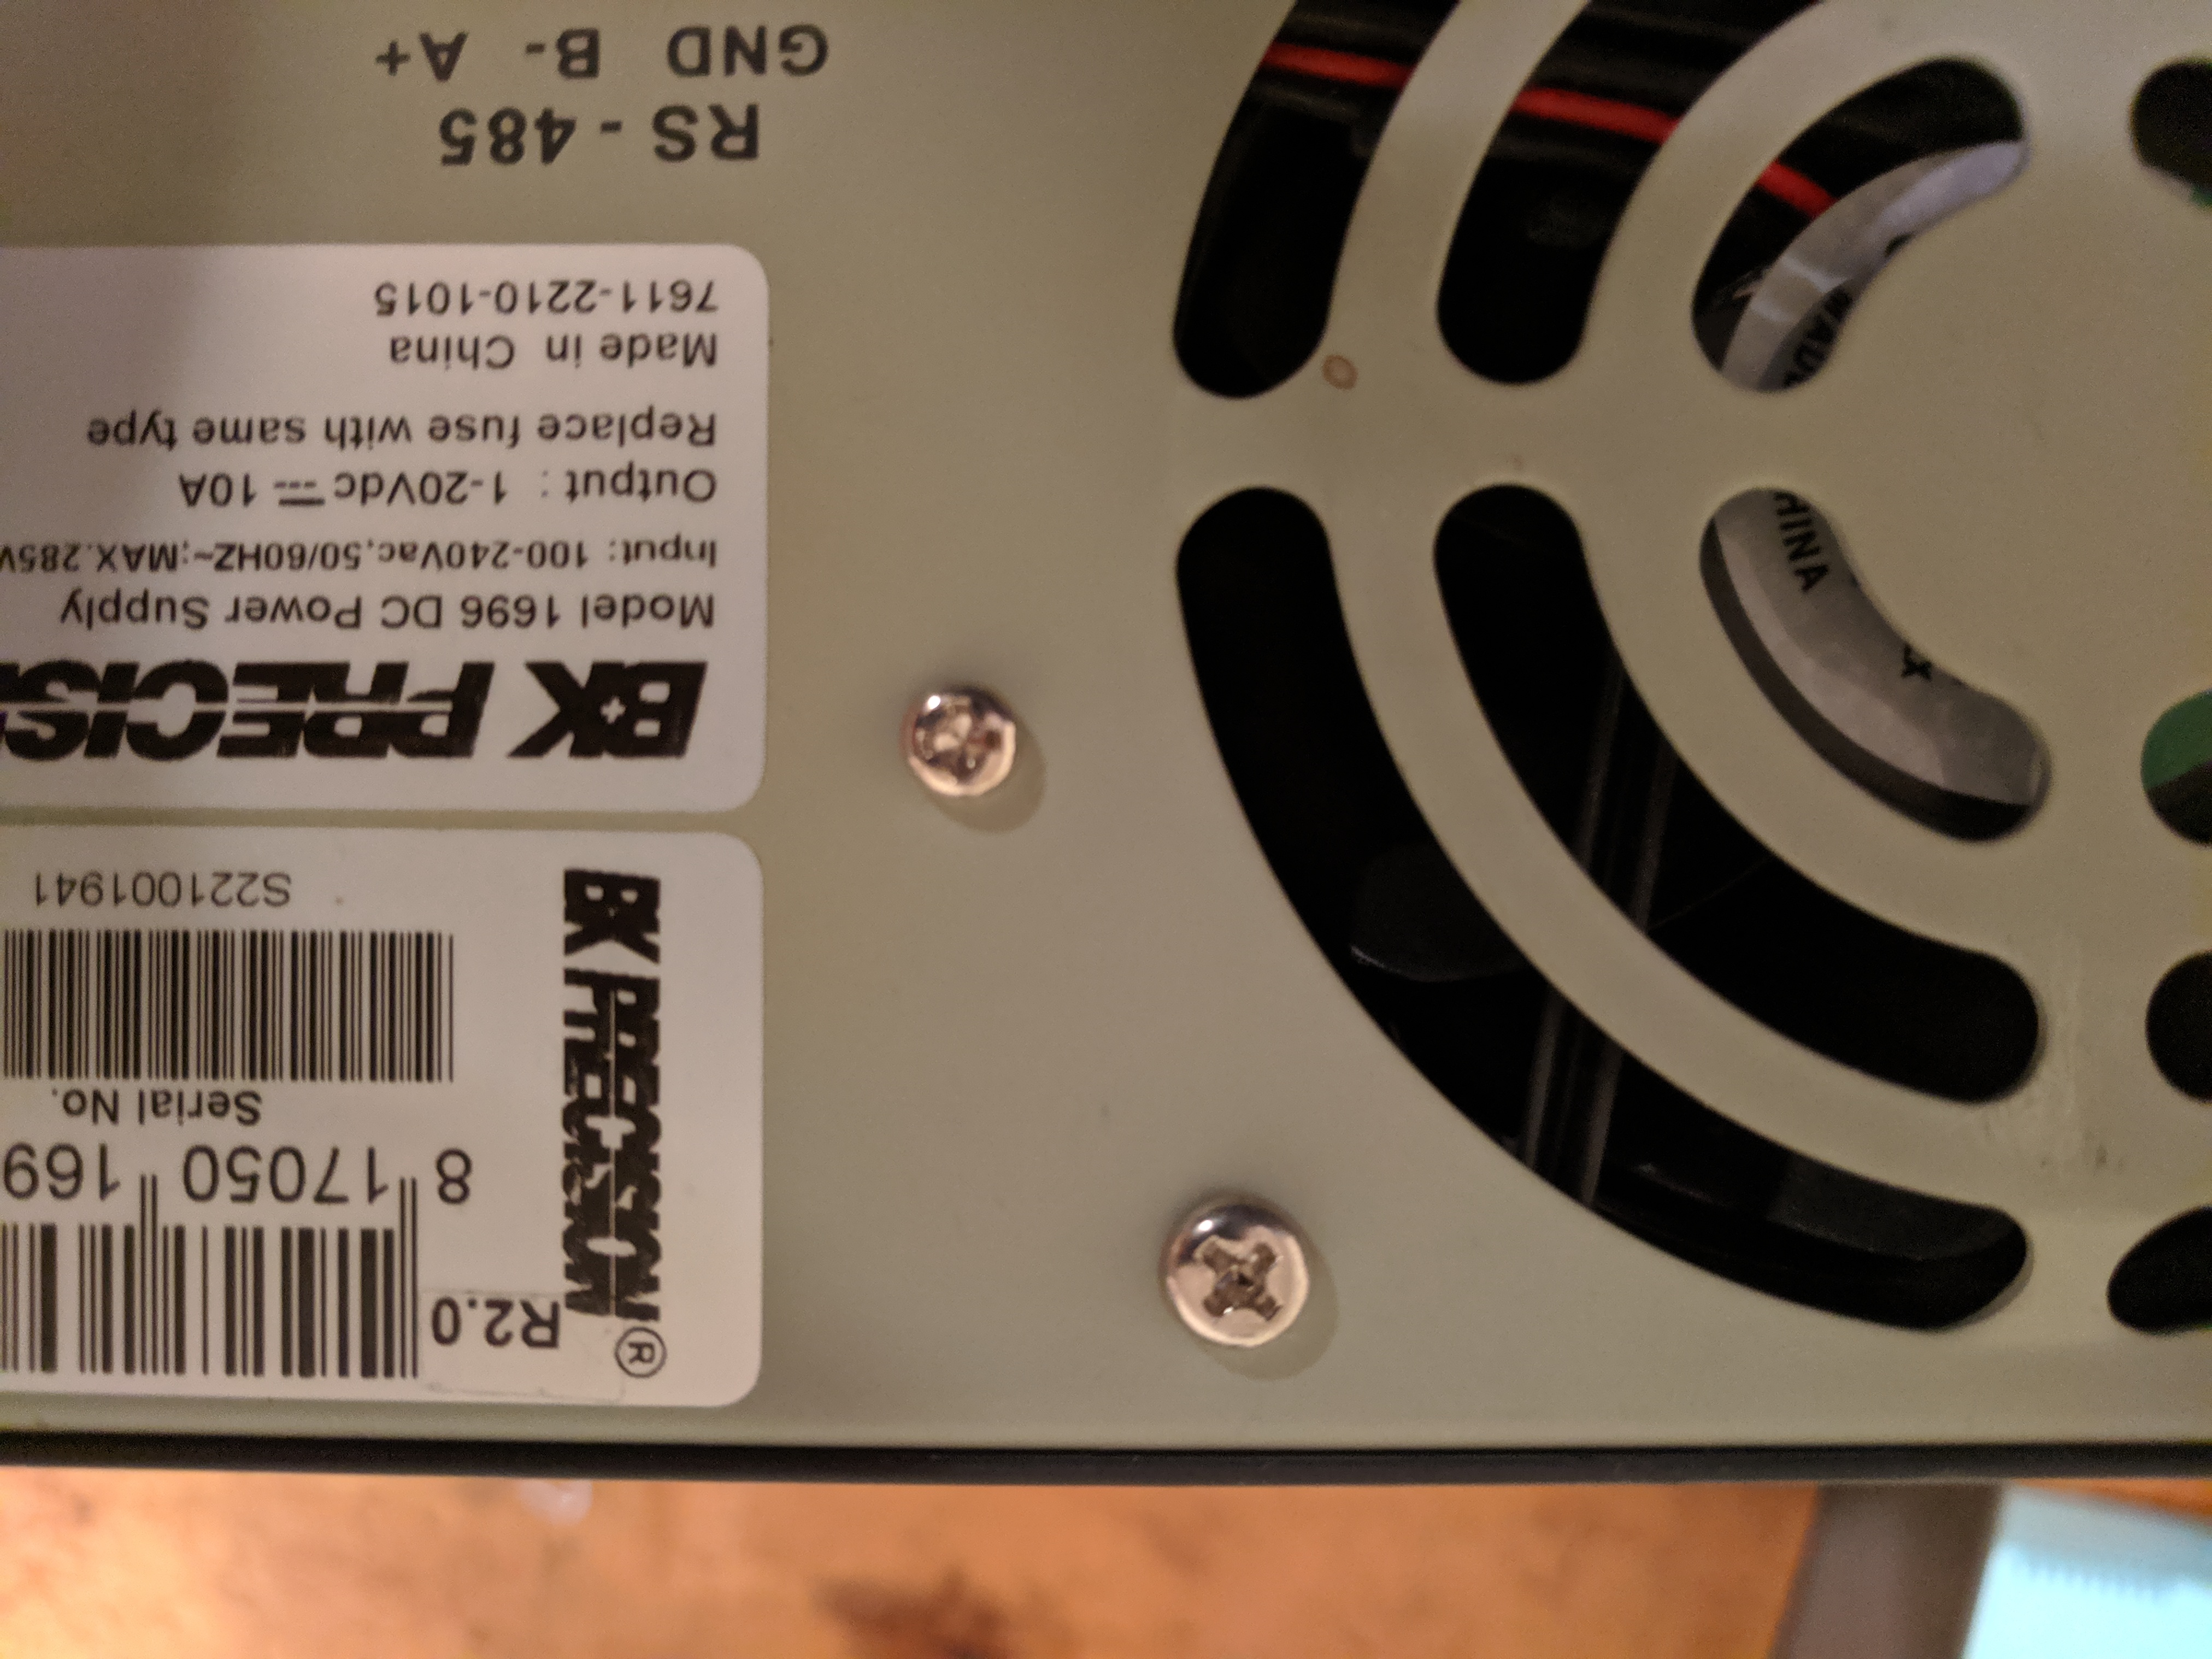cross_recessed_screw: (1162, 1187, 1313, 1351), (897, 680, 1017, 795)
